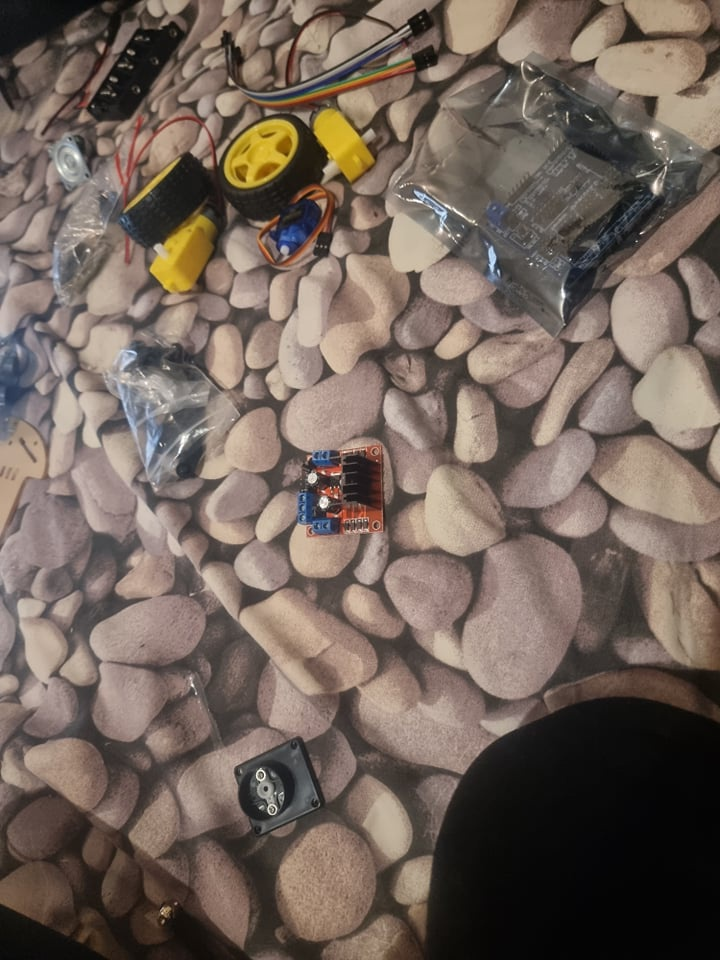BATTERY BOX: (85, 15, 178, 123)
MOTOR: (296, 440, 387, 543)
